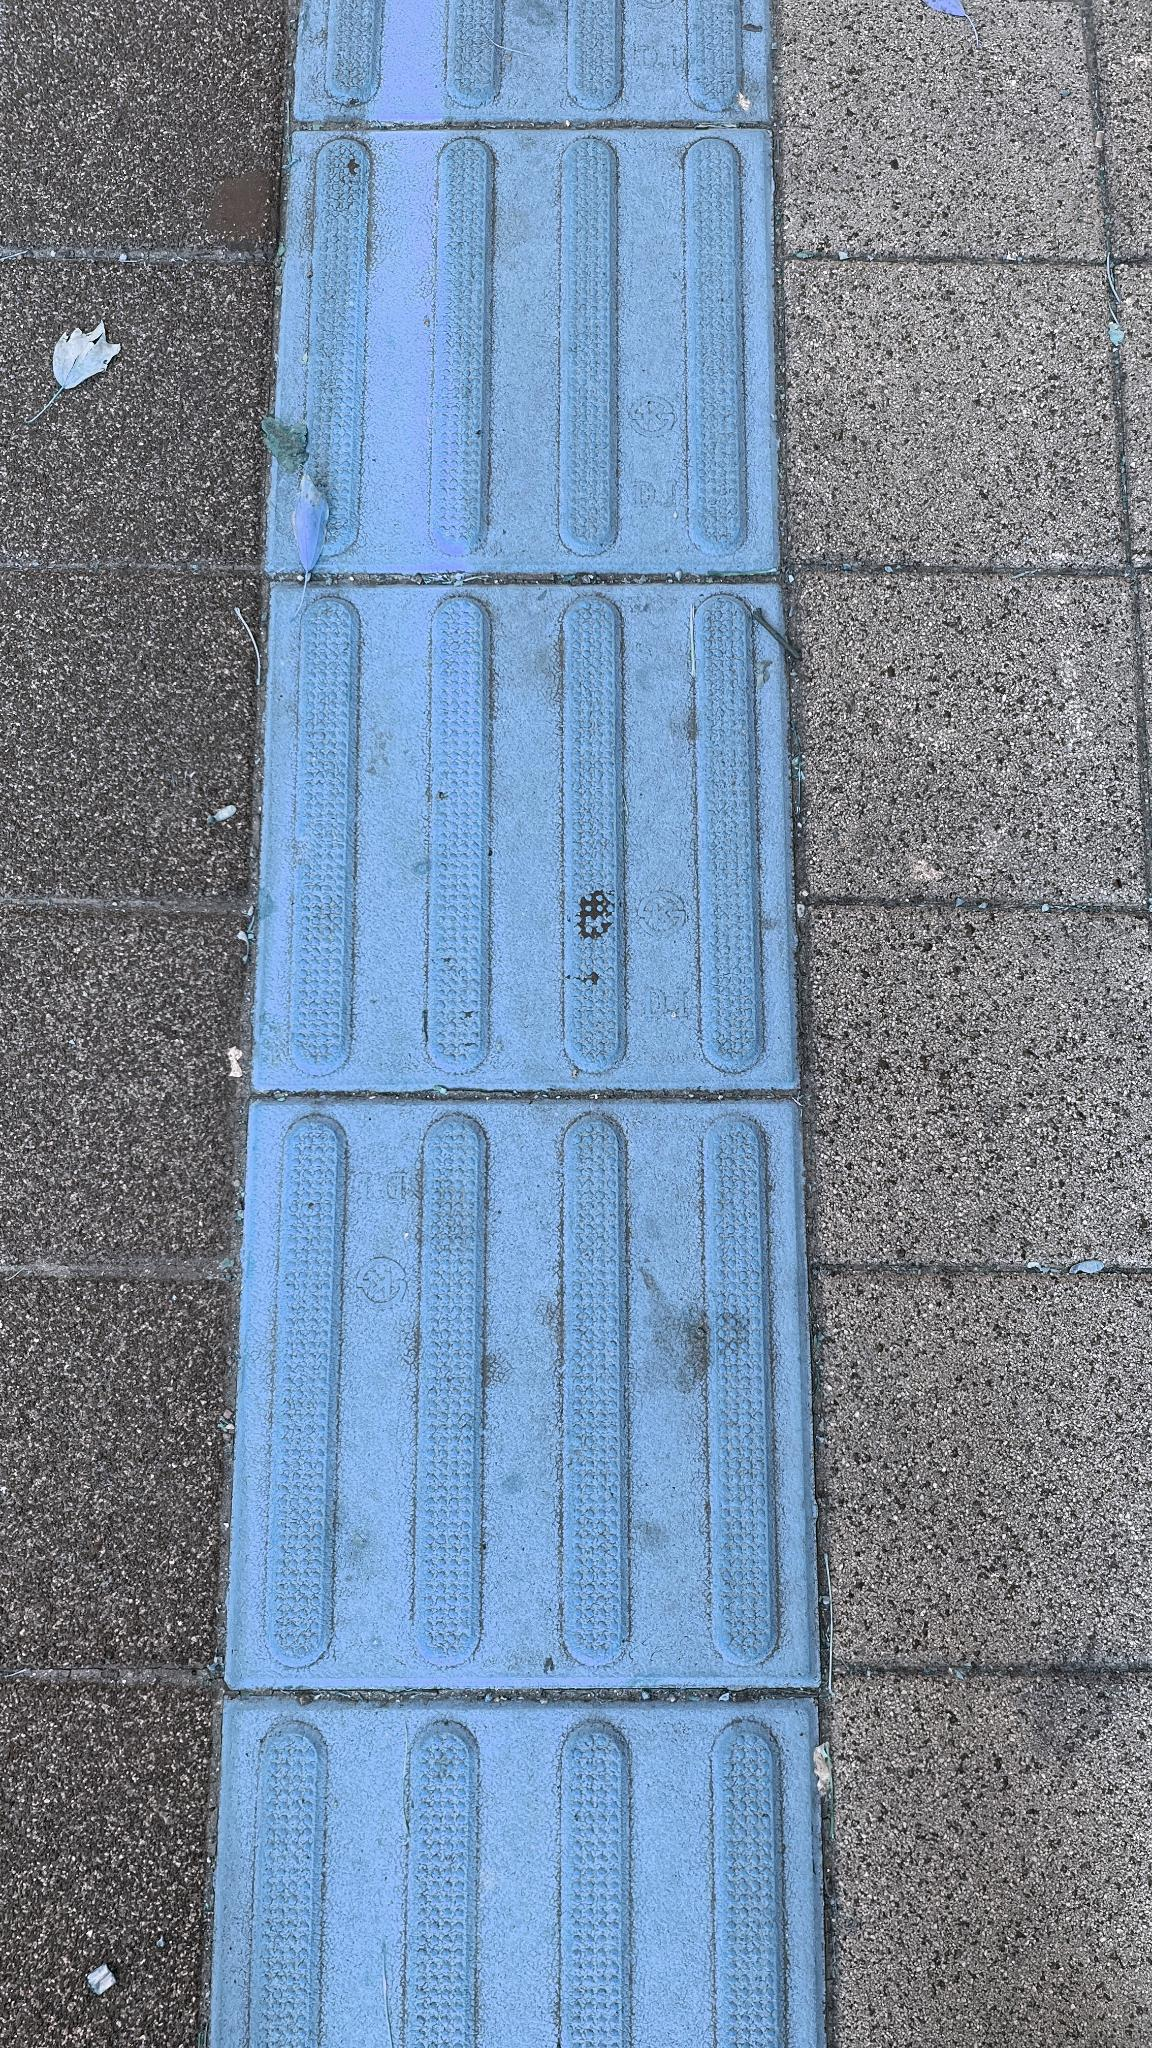Straight block normal: (236, 1107, 813, 1681), (273, 134, 776, 570)
